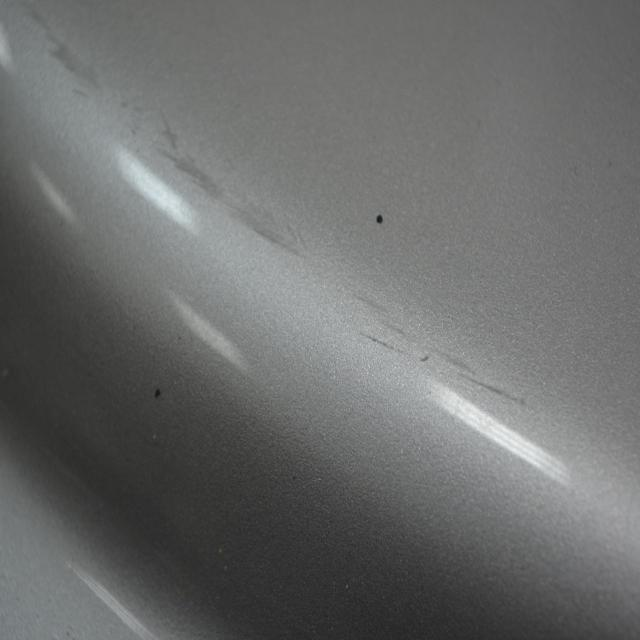dirt: (372, 205, 388, 228), (150, 380, 162, 404)
scratch: (346, 291, 536, 420)
water marks: (145, 98, 314, 271), (27, 12, 108, 112)
